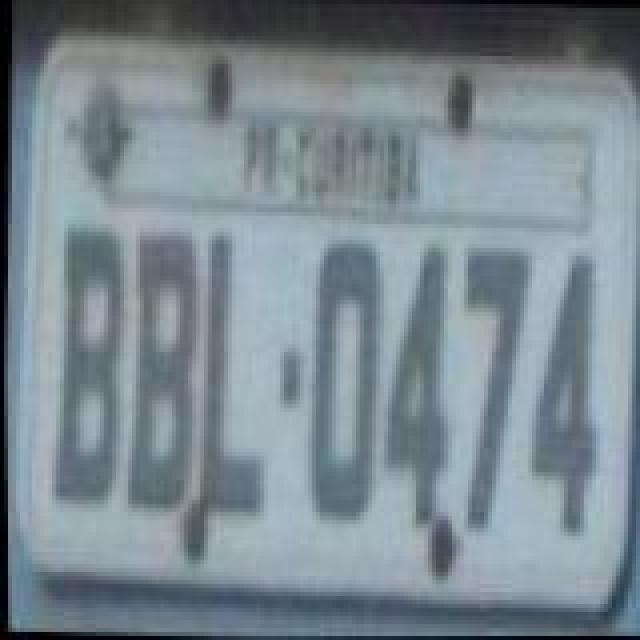4: (376, 242, 452, 530), (524, 252, 600, 540)
7: (448, 240, 532, 536)
B: (38, 220, 126, 516), (120, 226, 204, 514)
L: (192, 230, 268, 518)
O: (300, 234, 384, 530)
